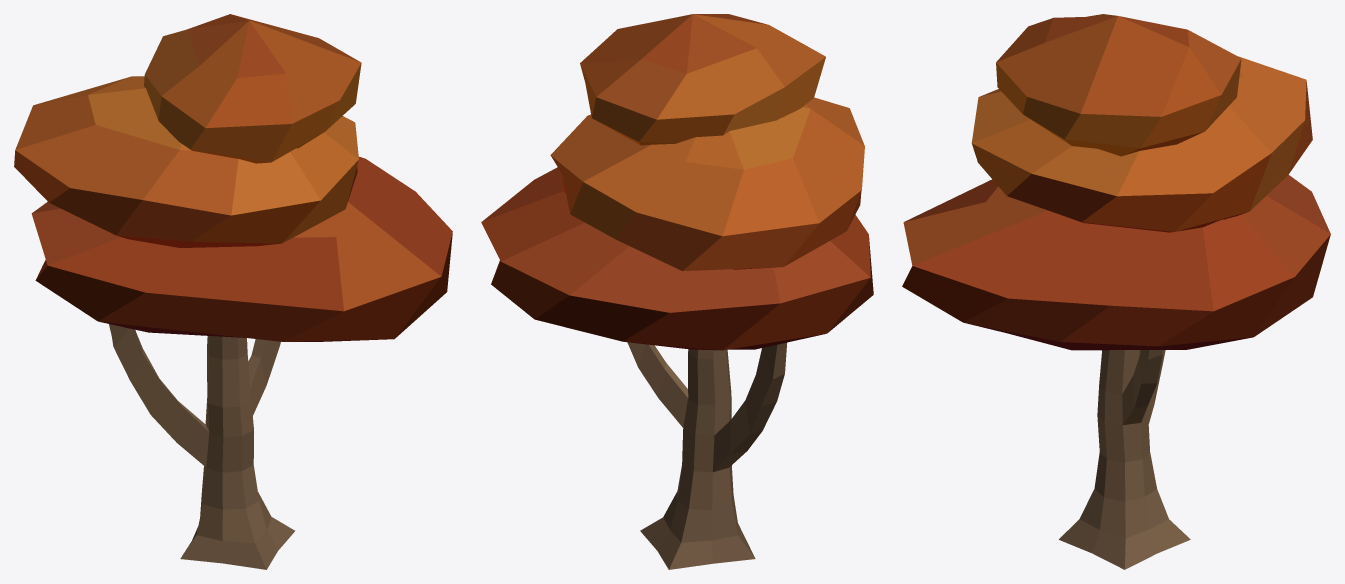
Rendered from Autumn_Tree.glb.
3 views of the same model, side by side, from view 1: azimuth 30°, elevation 25°; view 2: azimuth 150°, elevation 25°; view 3: azimuth 270°, elevation 25° (orthographic).
Visible parts, largest first — view 1: Autumn_Tree; view 2: Autumn_Tree; view 3: Autumn_Tree.
Boxes of the visible parts, x1=… form: Autumn_Tree: x1=14, y1=14, x2=452, y2=569; Autumn_Tree: x1=481, y1=14, x2=873, y2=569; Autumn_Tree: x1=902, y1=14, x2=1330, y2=569.
Bounding box in the file's own units: 3.4 × 4.85 × 3.54.
